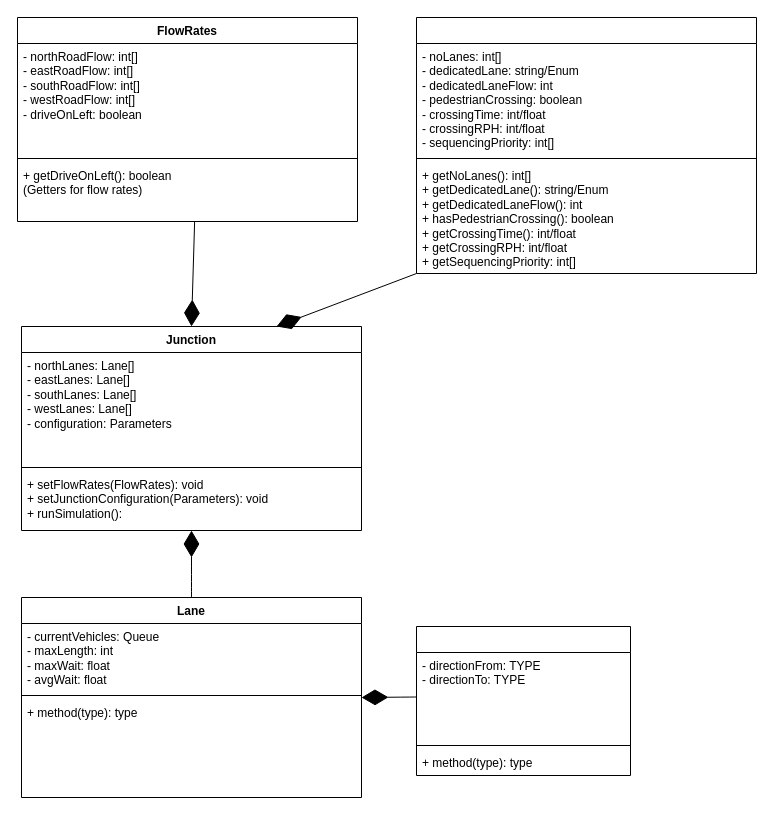
The diagram is 774 pixels wide and 818 high, and some of its shapes have lost their labels. The box of each missing label's shape, as (x1, y1, x2, y2) in pixels:
Parameters: (416, 16, 756, 274)
Vehicle: (416, 626, 630, 776)
